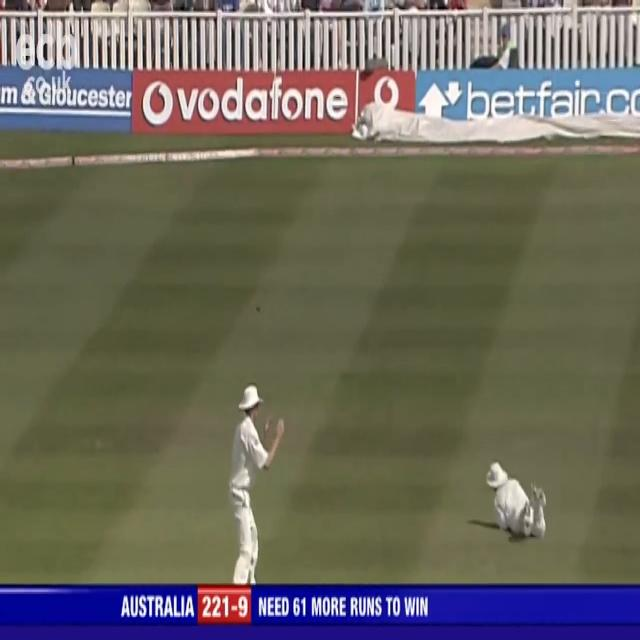ball: (254, 304, 264, 319)
